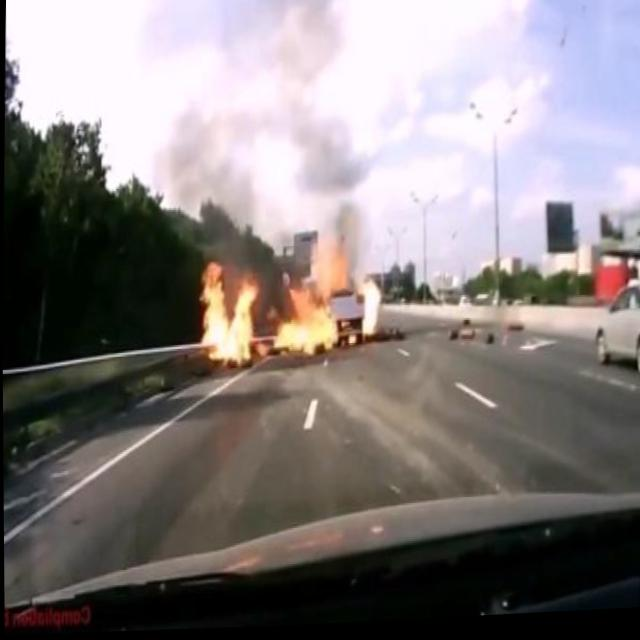fire: (195, 237, 348, 375), (359, 275, 385, 341)
